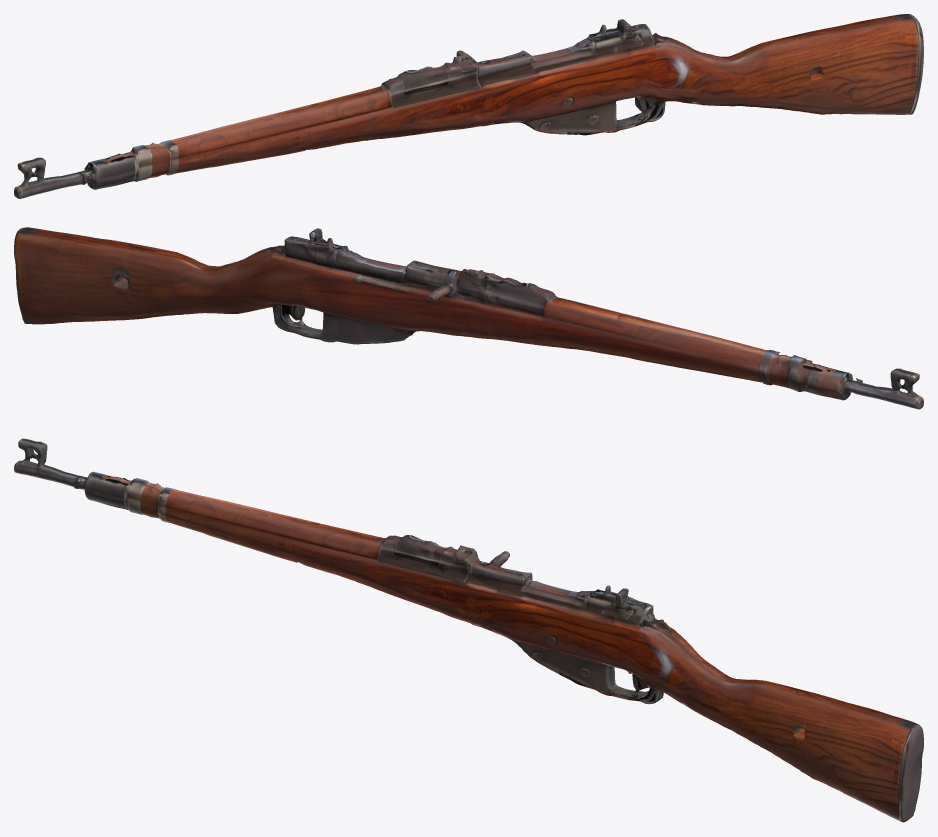
File: mosin.glb
3 views of the same model, one above another, from view 1: azimuth 30°, elevation 25°; view 2: azimuth 150°, elevation 25°; view 3: azimuth 330°, elevation 25° (orthographic).
Bounding box in the file's own units: 1.98 × 0.3464 × 0.1277.
1 material, 1 textured.
